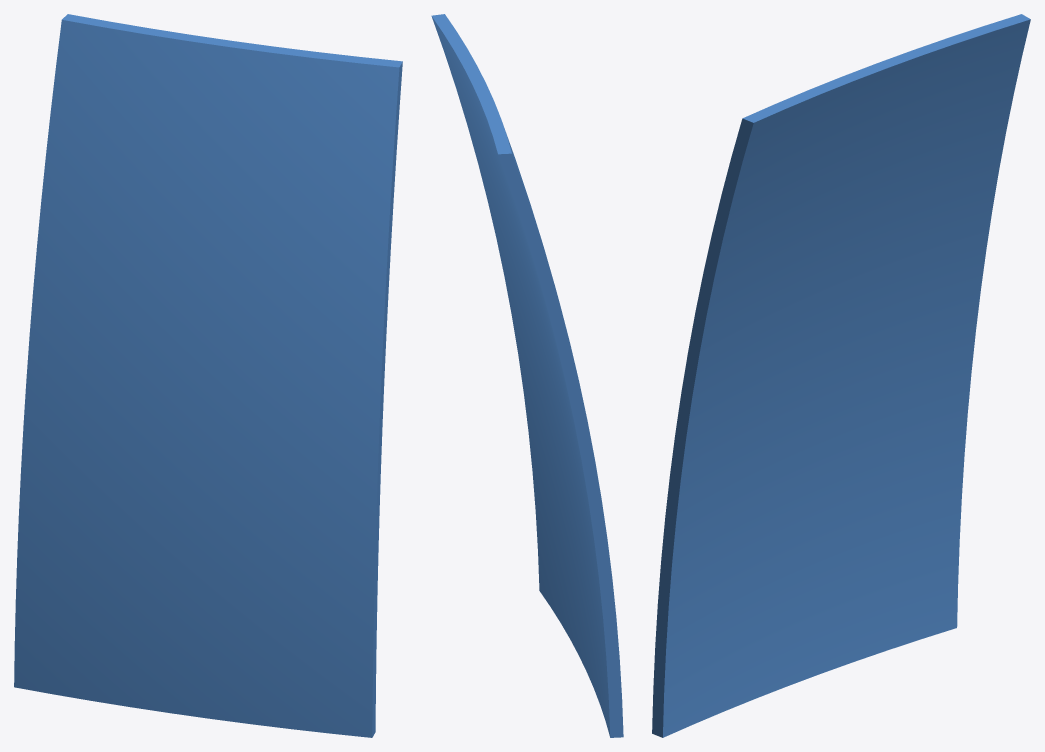
3 renders of one model, left to right at view 1: azimuth 30°, elevation 25°; view 2: azimuth 150°, elevation 25°; view 3: azimuth 270°, elevation 25°, orthographic. The views are drawn at different scales.
Parts seen in each view (by area): view 1: Body1; view 2: Body1; view 3: Body1.
Boxes of the visible parts, x1,y1,x2,y2 form: Body1: (14,14,402,737); Body1: (431,14,623,737); Body1: (652,14,1030,737).
Bounding box in the file's own units: 3.83 × 7.7 × 4.06.
